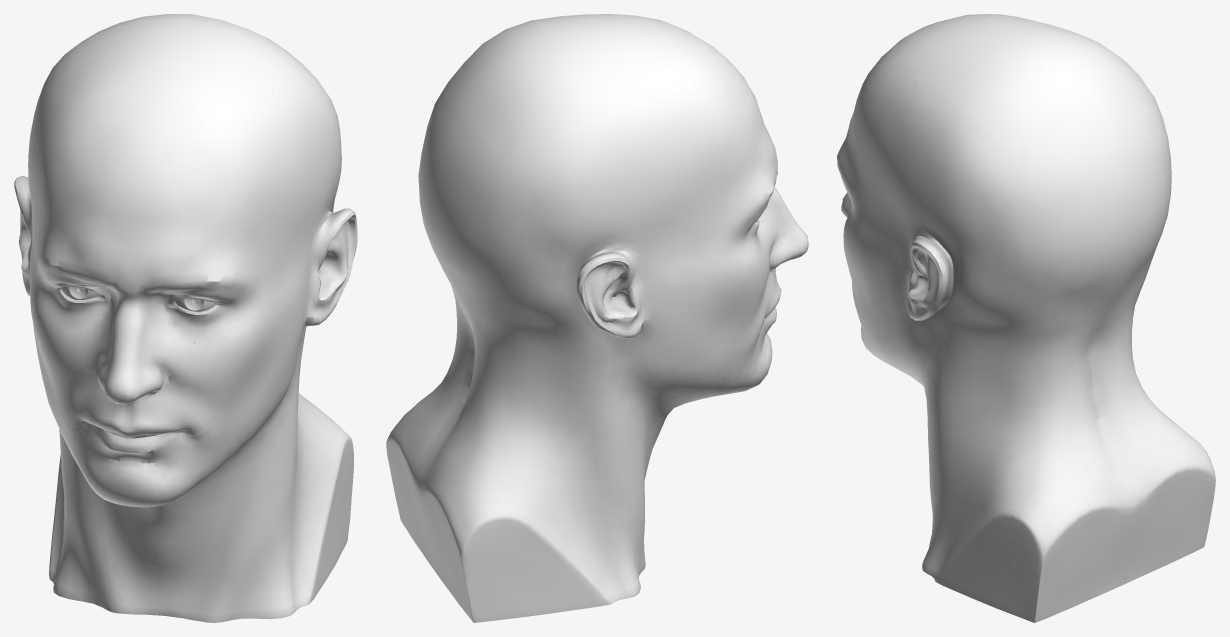
Rendered from 头部分面体_侧面基础01_opt.glb.
3 views of the same model, side by side, from view 1: azimuth 30°, elevation 25°; view 2: azimuth 150°, elevation 25°; view 3: azimuth 270°, elevation 25° (orthographic). The views are drawn at different scales.
Parts seen in each view (by area): view 1: rm_headNM, mesh_110, mesh_111, mesh_257; view 2: rm_headNM, mesh_84, mesh_234, mesh_240; view 3: rm_headNM, mesh_257.
Part boxes in pixels (x1,y1,x2,y2): rm_headNM: (14,14,357,622); mesh_110: (123,118,208,262); mesh_111: (186,105,235,234); mesh_257: (220,19,286,136); rm_headNM: (386,14,808,622); mesh_84: (647,268,770,386); mesh_234: (505,377,580,465); mesh_240: (520,501,617,561); rm_headNM: (837,14,1215,622); mesh_257: (894,66,1089,110).
Size of the model in its own units: 0.1999 by 0.3 by 0.2025.
Materials: 1 (1 with a texture image).
